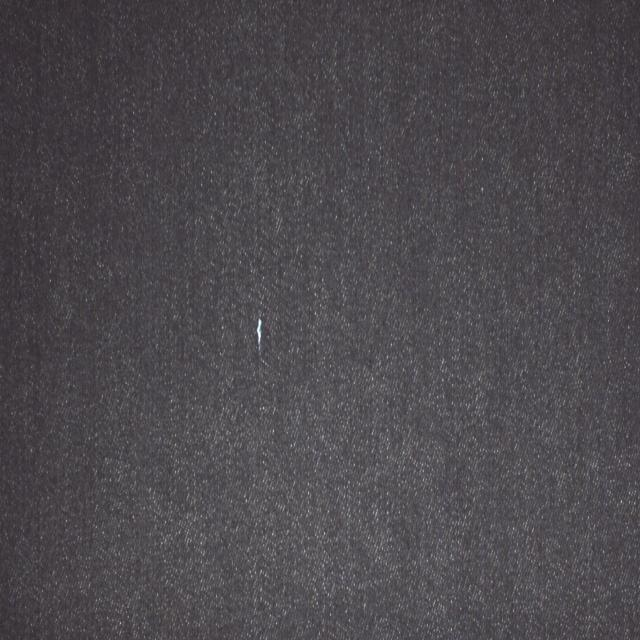Knot: (256, 317, 264, 356)
